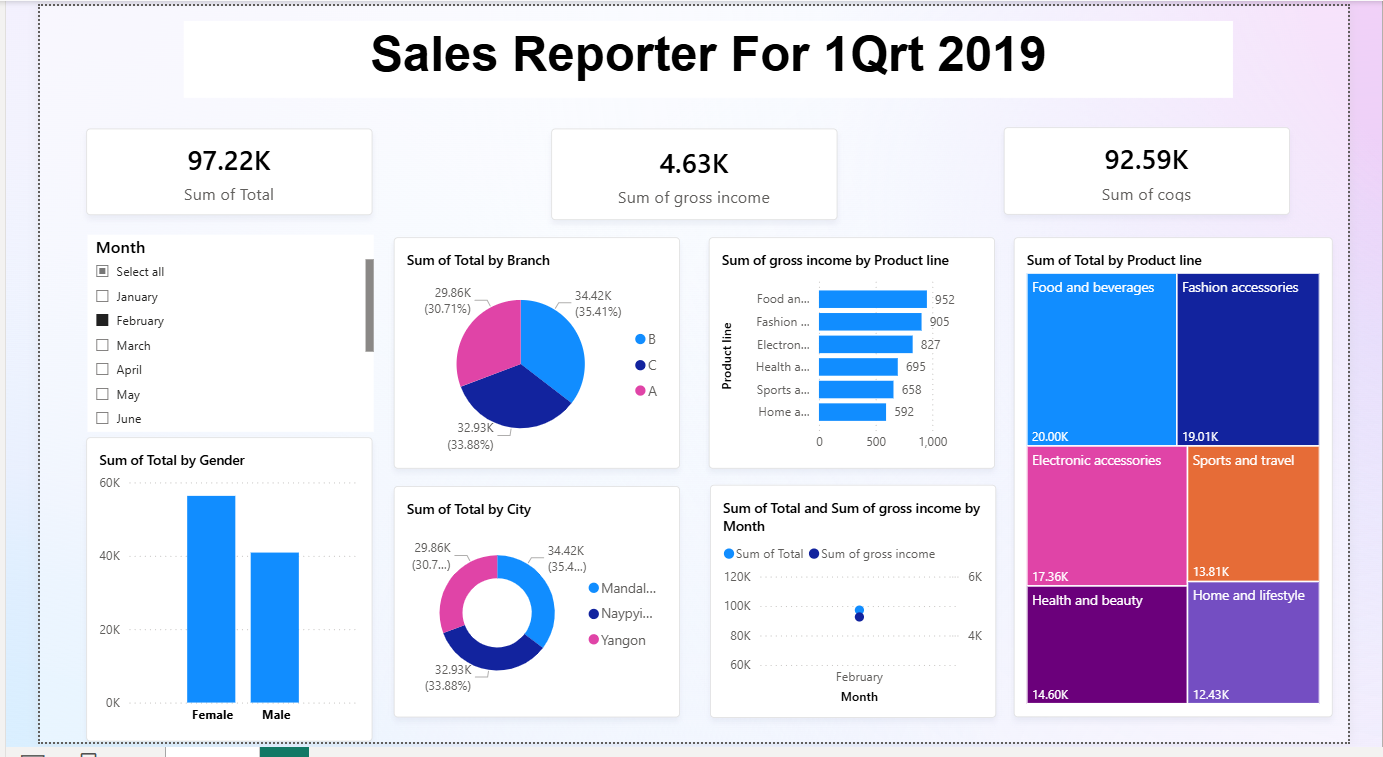

This screenshot's page, from the dashboard's own definition file:
{"tool":"powerbi","page":{"name":"Page 1","canvas":[1280,720],"ordinal":0},"visuals":[{"type":"card","fields":{"Values":["Sum(super market sales.gross income)"]},"box":[499.6,119.7,279.7,89.8],"z":0},{"type":"card","fields":{"Values":["Sum(super market sales.Total)"]},"box":[45.5,119.7,279.7,84.6],"z":1000},{"type":"card","fields":{"Values":["Sum(super market sales.cogs)"]},"box":[943.3,118.4,279.7,85.9],"z":2000},{"type":"pieChart","fields":{"Category":["super market sales.Branch"],"Y":["Sum(super market sales.Total)"]},"box":[346.1,226.4,279.7,226.4],"z":3000},{"type":"donutChart","fields":{"Category":["super market sales.City"],"Y":["Sum(super market sales.Total)"]},"box":[346.1,469.7,279.7,226.4],"z":4000},{"type":"treemap","fields":{"Group":["super market sales.Product line"],"Values":["Sum(super market sales.Total)"]},"box":[952.4,226.4,312.3,469.7],"z":5000},{"type":"clusteredColumnChart","fields":{"Category":["super market sales.Gender"],"Y":["Sum(super market sales.Total)"]},"box":[45.5,421.6,279.7,297.9],"z":6000},{"type":"slicer","fields":{"Values":["super market sales.Date.Variation.Date Hierarchy.Month"]},"box":[46.8,223.8,279.7,192.6],"z":7000},{"type":"lineChart","fields":{"Category":["super market sales.Date.Variation.Date Hierarchy.Month"],"Y":["Sum(super market sales.Total)"],"Y2":["Sum(super market sales.gross income)"]},"box":[655.7,468.4,279.7,227.7],"z":8000},{"type":"clusteredBarChart","fields":{"Category":["super market sales.Product line"],"Y":["Sum(super market sales.gross income)"]},"box":[654.4,226.4,279.7,226.4],"z":9000},{"type":"textbox","box":[140.5,14.3,1026.6,75.5],"z":10000}]}

Visuals, with their boxes in screenshot pixels (x1, y1, x2, y2), scaled from the page's 1280x720 canvas onto the 1383x757 screenshot:
card - Sum(super market sales.gross income): Rect(540, 126, 842, 220)
card - Sum(super market sales.Total): Rect(49, 126, 351, 215)
card - Sum(super market sales.cogs): Rect(1019, 124, 1321, 215)
pieChart - super market sales.Branch x Sum(super market sales.Total): Rect(374, 238, 676, 476)
donutChart - super market sales.City x Sum(super market sales.Total): Rect(374, 494, 676, 732)
treemap - super market sales.Product line x Sum(super market sales.Total): Rect(1029, 238, 1366, 732)
clusteredColumnChart - super market sales.Gender x Sum(super market sales.Total): Rect(49, 443, 351, 756)
slicer - super market sales.Date.Variation.Date Hierarchy.Month: Rect(51, 235, 353, 438)
lineChart - super market sales.Date.Variation.Date Hierarchy.Month x Sum(super market sales.Total): Rect(708, 492, 1011, 732)
clusteredBarChart - super market sales.Product line x Sum(super market sales.gross income): Rect(707, 238, 1009, 476)
textbox: Rect(152, 15, 1261, 94)
